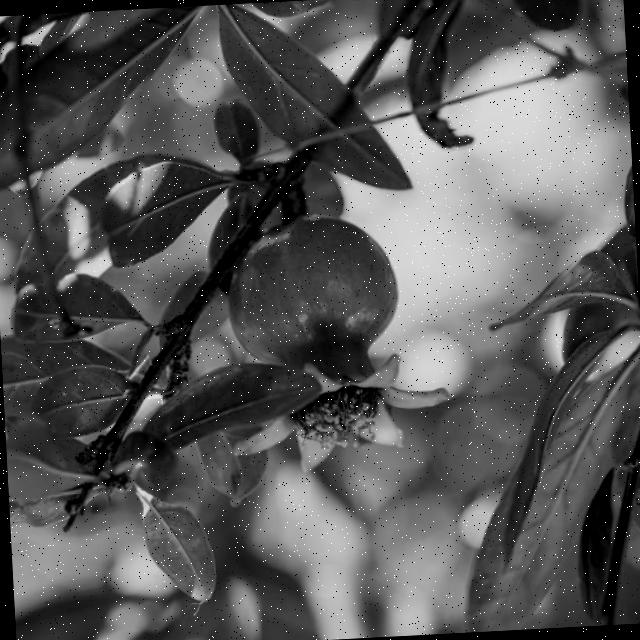Unripe: (219, 208, 450, 482)
